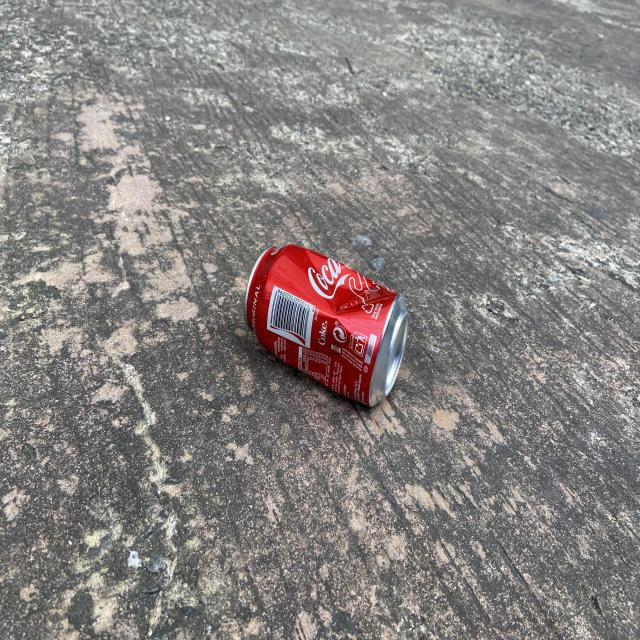can: (245, 244, 409, 406)
